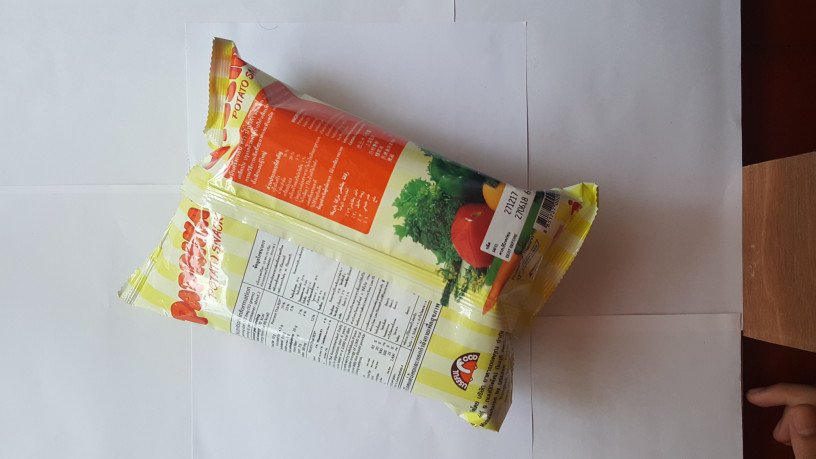paprika: (111, 35, 610, 435)
